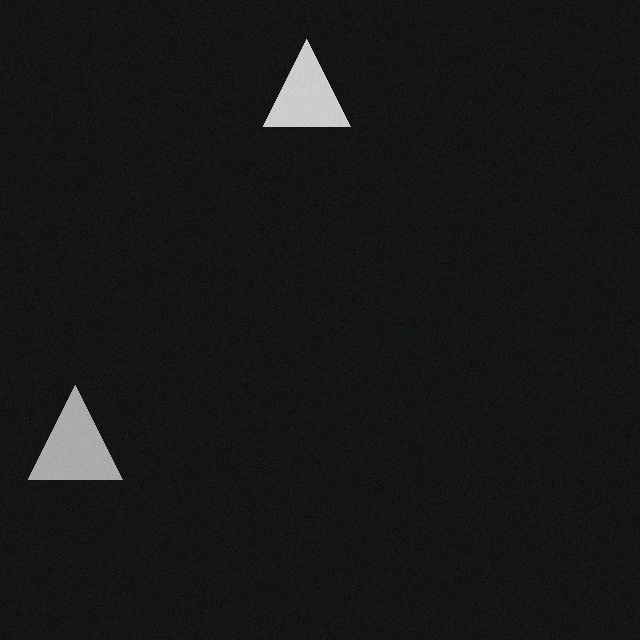triangle: (21, 386, 115, 480), (256, 40, 343, 127)
